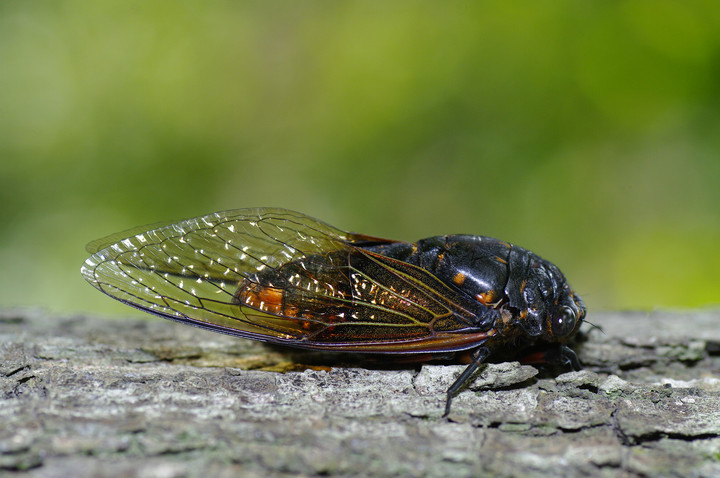chan: (109, 207, 592, 390)
